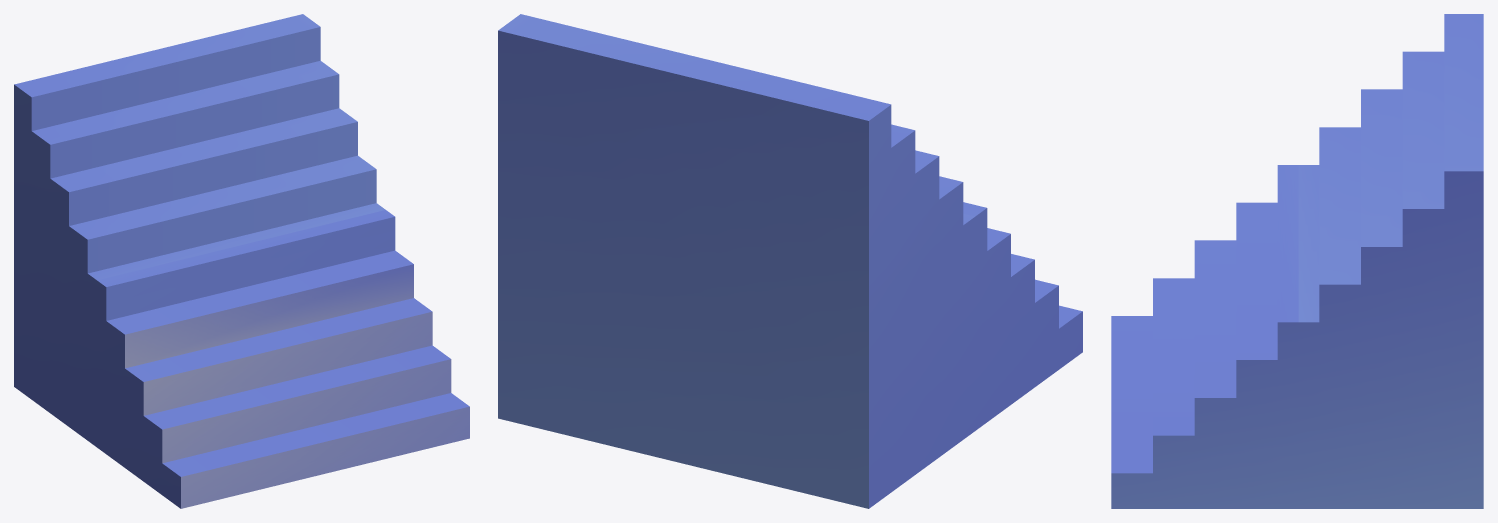
File: stairs.fbx
The picture shows the model from 3 angles, left to right: view 1: azimuth 30°, elevation 25°; view 2: azimuth 150°, elevation 25°; view 3: azimuth 270°, elevation 25°; orthographic projection. The views are drawn at different scales.
Parts seen in each view (by area): view 1: 立方体.001; view 2: 立方体.001; view 3: 立方体.001.
Part boxes in pixels (x1,y1,x2,y2): 立方体.001: (14, 14, 469, 508); 立方体.001: (498, 14, 1082, 508); 立方体.001: (1111, 14, 1483, 508).
Size of the model in its own units: 99.14 by 99.14 by 99.14.
1 material, 1 textured.
